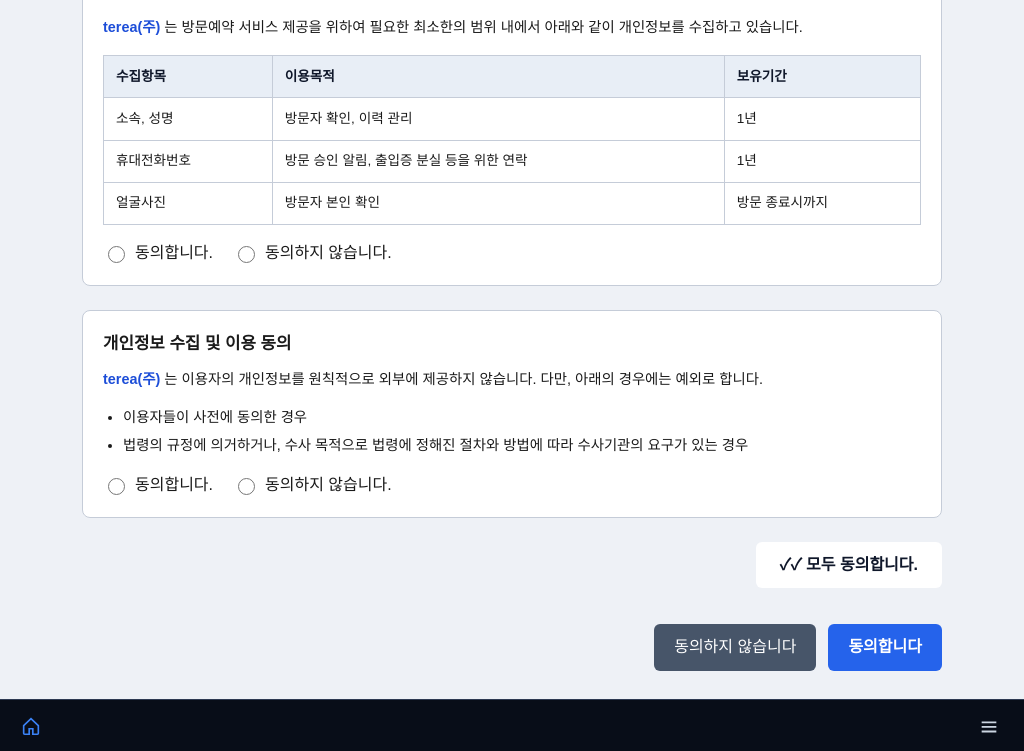
Test: S9: 개인정보 동의 후 진행 › 필수 미동의 시 주황 안내가 뜨고, 동의 후 다음으로 간다
(page scrolled)
Click the button "동의합니다".
click(885, 647)  # box x1=828 y1=624 x2=942 y2=670
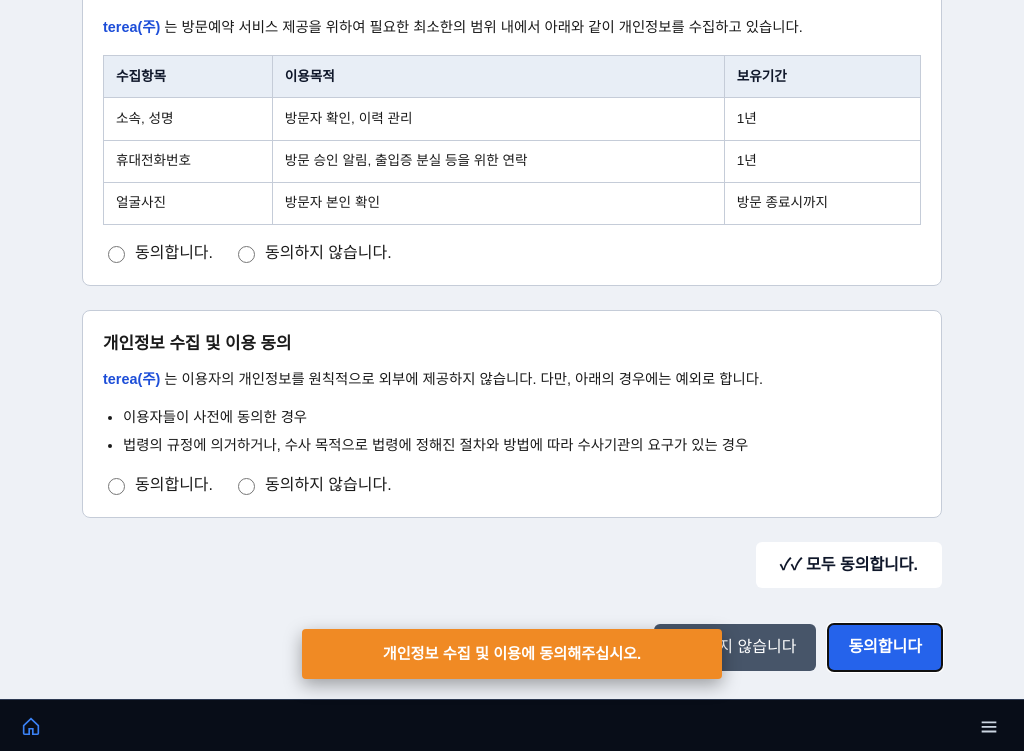
Expected: the heading "안전서약서" is not shown
Now the message shows "개인정보 수집 및 이용에 동의해주십시오", box x1=383 y1=645 x2=641 y2=662
Click the button "✓✓ 모두 동의합니다.".
click(849, 565)  # box x1=756 y1=542 x2=942 y2=588
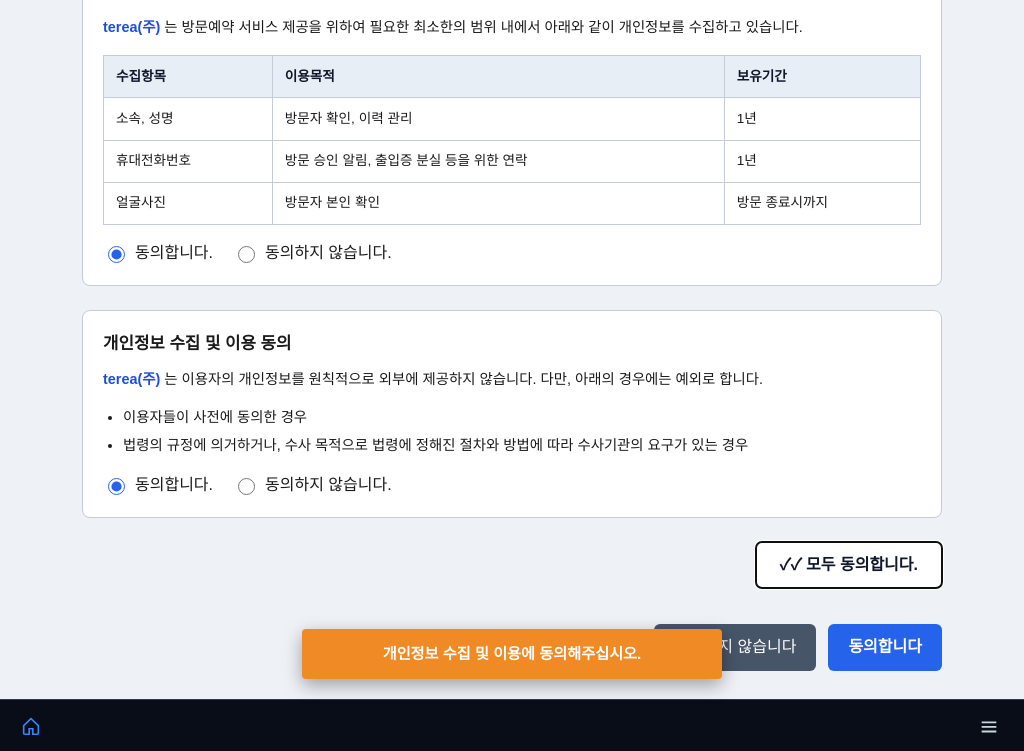
Click the button "동의합니다".
click(885, 647)  # box x1=828 y1=624 x2=942 y2=670
(page scrolled)
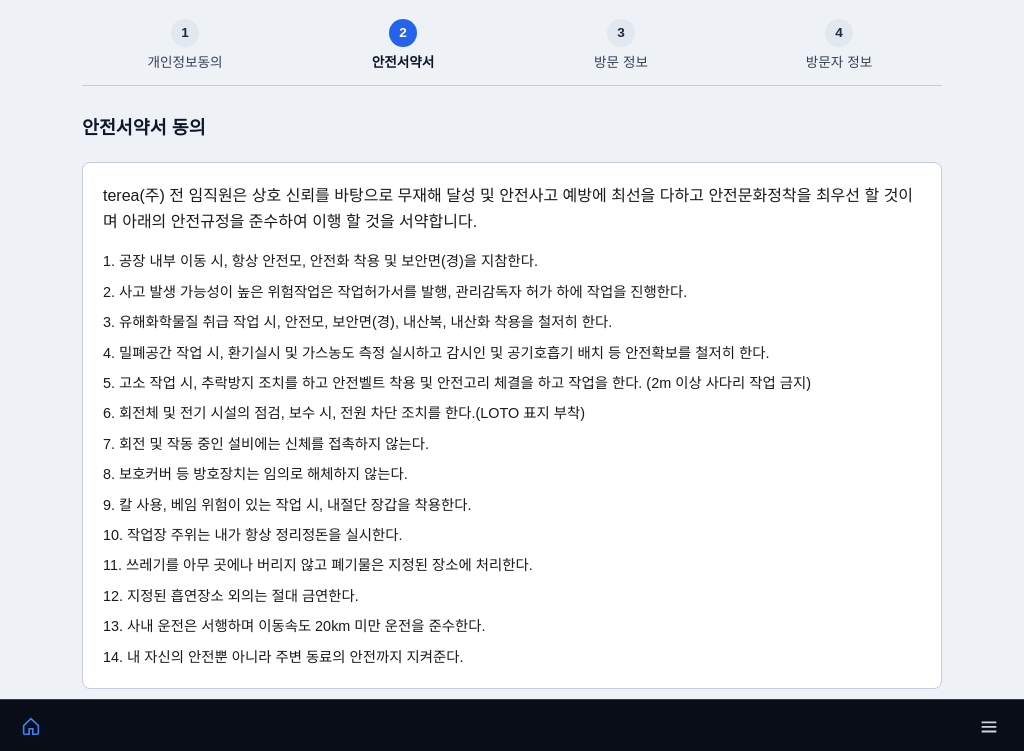
Now the heading "안전서약서 동의" is shown, box x1=82 y1=117 x2=206 y2=138
